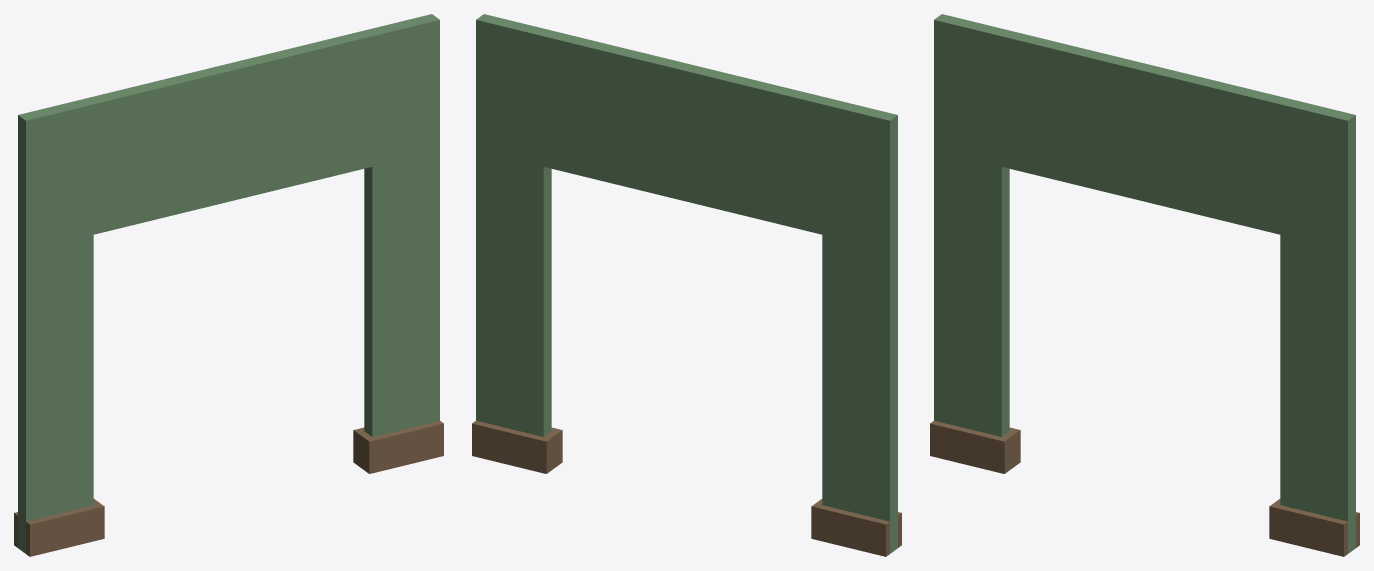
File: Mesh_WallBaseboard_F5.fbx
3 views of the same model, side by side, from view 1: azimuth 30°, elevation 25°; view 2: azimuth 150°, elevation 25°; view 3: azimuth 330°, elevation 25° (orthographic).
Parts seen in each view (by area): view 1: Mesh_WallBaseboard_F5; view 2: Mesh_WallBaseboard_F5; view 3: Mesh_WallBaseboard_F5.
Boxes of the visible parts, x1=… form: Mesh_WallBaseboard_F5: x1=14, y1=14, x2=443, y2=556; Mesh_WallBaseboard_F5: x1=472, y1=14, x2=901, y2=556; Mesh_WallBaseboard_F5: x1=930, y1=14, x2=1359, y2=556.
Bounding box in the file's own units: 3 × 3 × 0.2.
